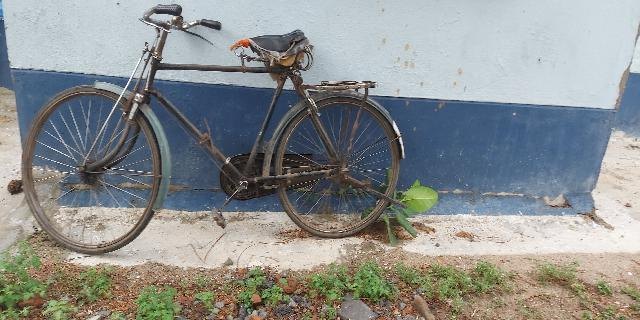Cycle: (23, 6, 412, 250)
